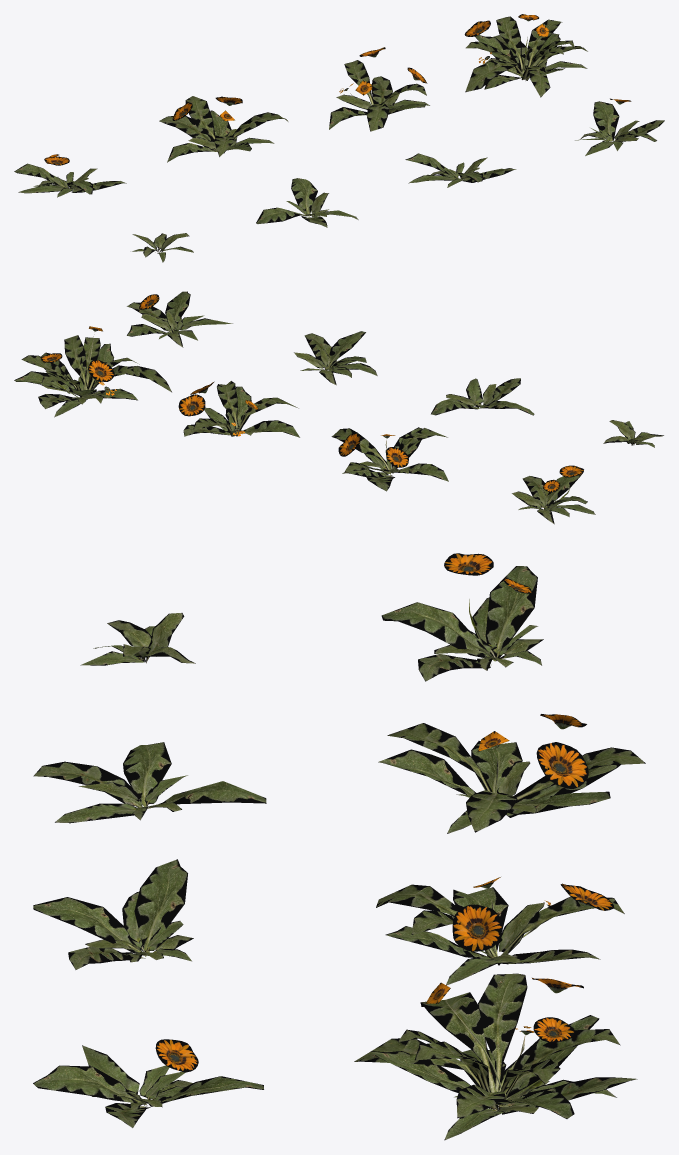
Rendered from flower_gazania.glb.
3 views of the same model, one above another, from view 1: azimuth 30°, elevation 25°; view 2: azimuth 150°, elevation 25°; view 3: azimuth 270°, elevation 25° (orthographic). The views are drawn at different scales.
Parts seen in each view (by area): view 1: flower_gazania_h_LOD0, flower_gazania_f_LOD0, flower_gazania_g_LOD0, flower_gazania_d_LOD0, flower_gazania_b_LOD0, flower_gazania_e_LOD0, flower_gazania_c_LOD0, flower_gazania_a_LOD0; view 2: flower_gazania_h_LOD0, flower_gazania_g_LOD0, flower_gazania_f_LOD0, flower_gazania_d_LOD0, flower_gazania_e_LOD0, flower_gazania_c_LOD0, flower_gazania_b_LOD0, flower_gazania_a_LOD0; view 3: flower_gazania_h_LOD0, flower_gazania_f_LOD0, flower_gazania_g_LOD0, flower_gazania_e_LOD0, flower_gazania_c_LOD0, flower_gazania_d_LOD0, flower_gazania_b_LOD0, flower_gazania_a_LOD0.
Boxes of the visible parts, box(x1,y1,x2,y2) form: flower_gazania_h_LOD0: box(464, 14, 587, 97); flower_gazania_f_LOD0: box(159, 96, 288, 162); flower_gazania_g_LOD0: box(329, 47, 429, 131); flower_gazania_d_LOD0: box(575, 98, 664, 155); flower_gazania_b_LOD0: box(256, 178, 358, 227); flower_gazania_e_LOD0: box(14, 154, 126, 197); flower_gazania_c_LOD0: box(405, 153, 516, 187); flower_gazania_a_LOD0: box(132, 233, 193, 262); flower_gazania_h_LOD0: box(14, 326, 171, 417); flower_gazania_g_LOD0: box(178, 381, 299, 437); flower_gazania_f_LOD0: box(331, 427, 448, 491); flower_gazania_d_LOD0: box(127, 291, 232, 347); flower_gazania_e_LOD0: box(512, 465, 595, 524); flower_gazania_c_LOD0: box(294, 331, 377, 385); flower_gazania_b_LOD0: box(431, 378, 534, 415); flower_gazania_a_LOD0: box(603, 420, 663, 447); flower_gazania_h_LOD0: box(354, 973, 637, 1140); flower_gazania_f_LOD0: box(378, 714, 645, 833); flower_gazania_g_LOD0: box(376, 877, 624, 985); flower_gazania_e_LOD0: box(381, 553, 543, 681); flower_gazania_c_LOD0: box(33, 859, 193, 969); flower_gazania_d_LOD0: box(33, 1039, 263, 1127); flower_gazania_b_LOD0: box(33, 742, 266, 823); flower_gazania_a_LOD0: box(80, 613, 195, 665).
Size of the model in its own units: 1.48 by 0.1624 by 0.7015.
Materials: 1 (1 with a texture image).
